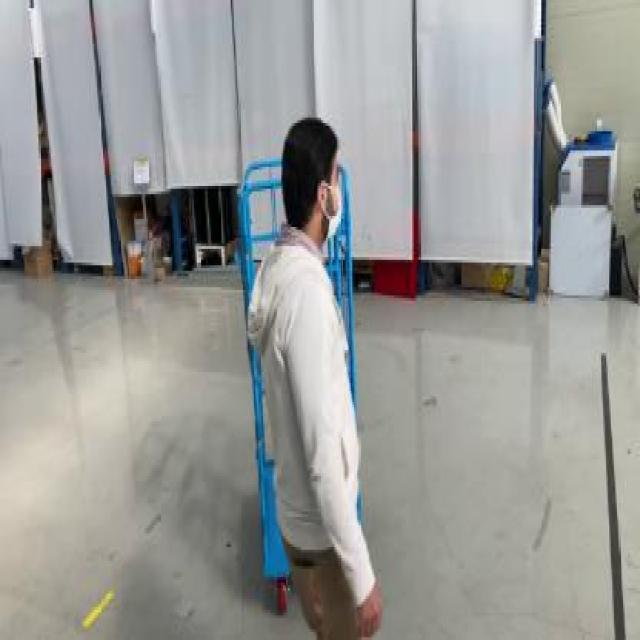cart: (234, 162, 358, 582)
person: (262, 137, 376, 637)
